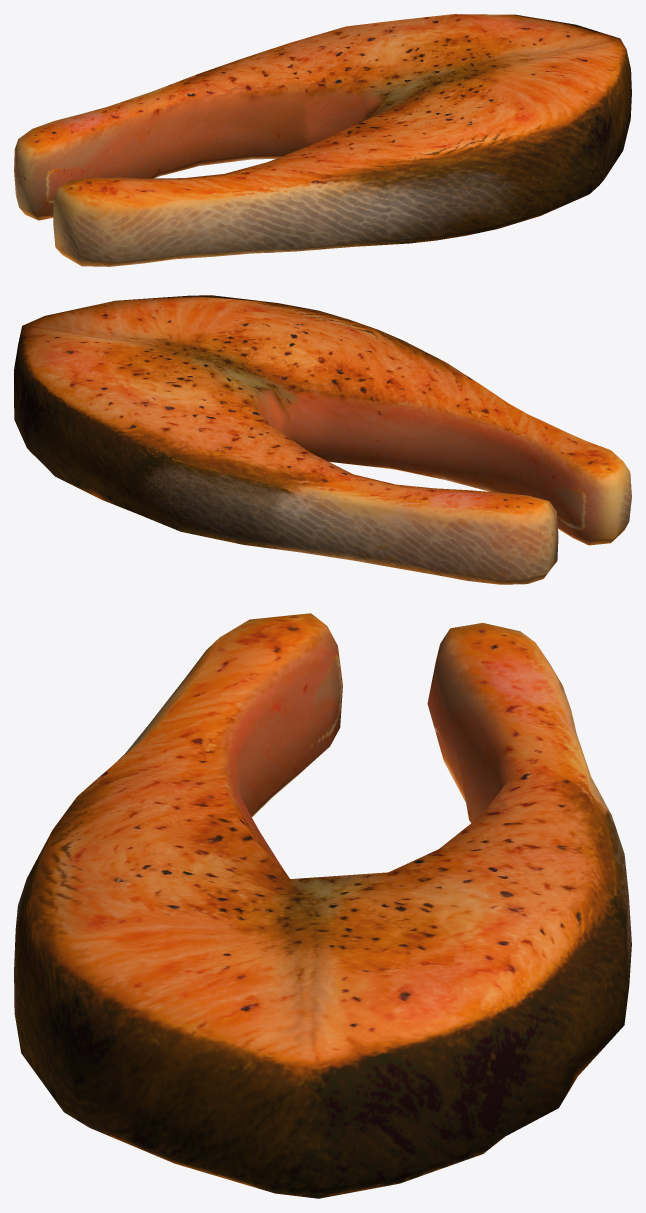
The model's file is SM_Salmonsteak.fbx.
3 renders of one model, top to bottom at view 1: azimuth 30°, elevation 25°; view 2: azimuth 150°, elevation 25°; view 3: azimuth 270°, elevation 25°, orthographic. The views are drawn at different scales.
Visible parts, largest first — view 1: SalmonSteak_LP_T_SalmonSteak_Export; view 2: SalmonSteak_LP_T_SalmonSteak_Export; view 3: SalmonSteak_LP_T_SalmonSteak_Export.
Boxes of the visible parts, left/top/right/bottom form: SalmonSteak_LP_T_SalmonSteak_Export: left=14, top=14, right=631, bottom=266; SalmonSteak_LP_T_SalmonSteak_Export: left=14, top=295, right=631, bottom=584; SalmonSteak_LP_T_SalmonSteak_Export: left=14, top=613, right=631, bottom=1198.
Bounding box in the file's own units: 13.58 × 2.04 × 7.36.
